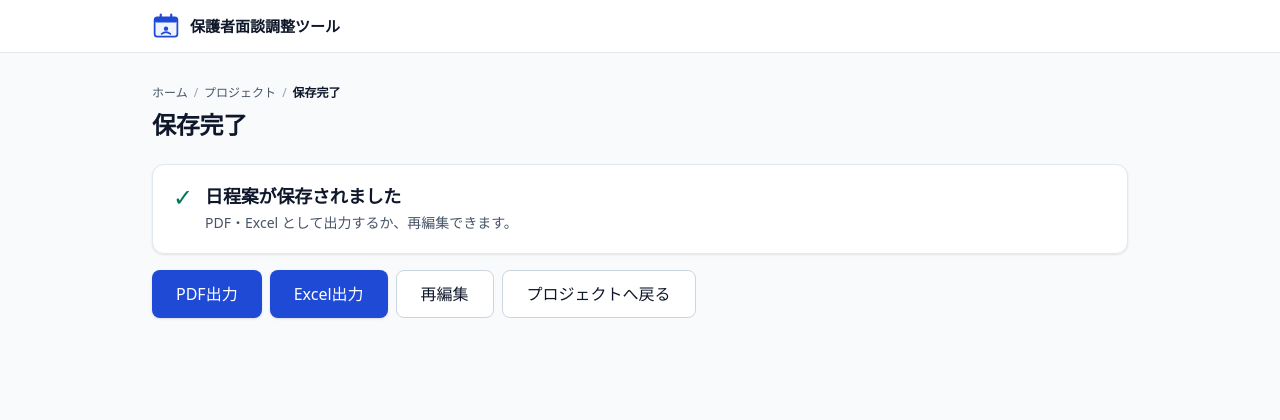
Test: SavedPage › Excel取得失敗時にエラー表示が出る
The width and height of the screenshot is (1280, 420).
Click the button "Excel出力".
click(329, 294)  # box [270, 270, 388, 318]
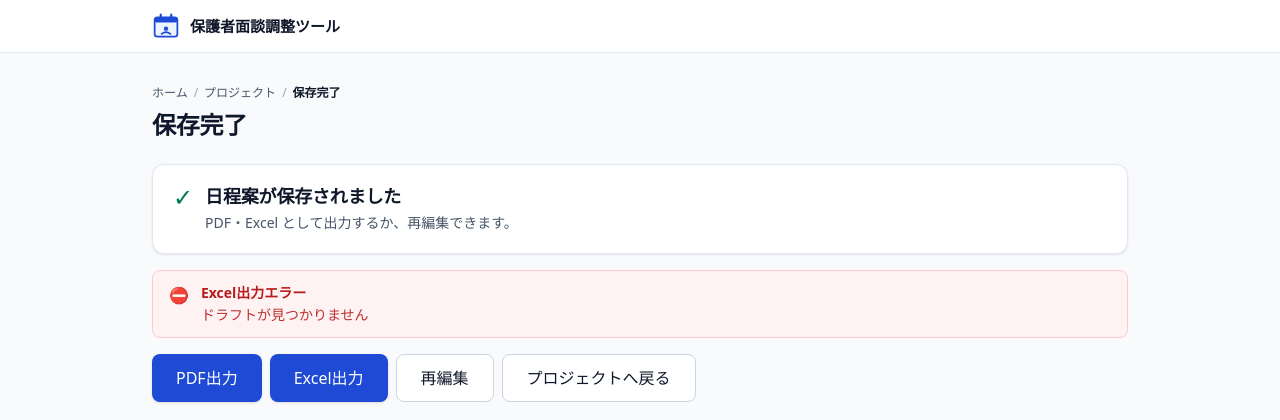
expect the message "⛔ Excel出力エラー ドラフトが見つかりません" is shown: met, box [152, 270, 1128, 338]
